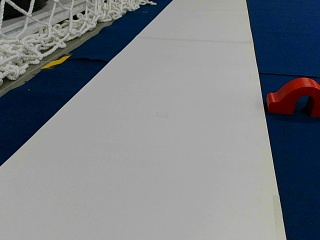bridge: (268, 77, 319, 113)
